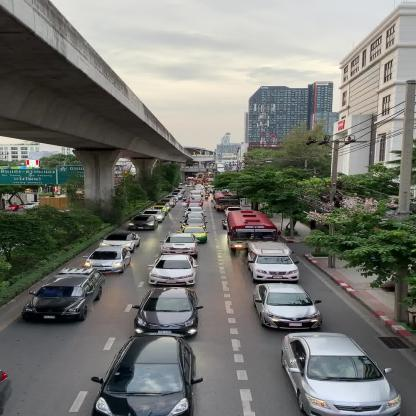bus: (228, 210, 279, 252)
car: (279, 332, 403, 414), (89, 333, 202, 415), (20, 268, 104, 322), (132, 286, 204, 340), (254, 284, 325, 330), (245, 242, 301, 282), (144, 254, 200, 286), (82, 247, 134, 275), (98, 232, 140, 253), (161, 232, 198, 254), (127, 214, 157, 229), (179, 227, 210, 241)
